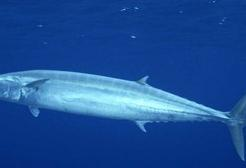Scombridae -Tunas-: (0, 63, 246, 166)
